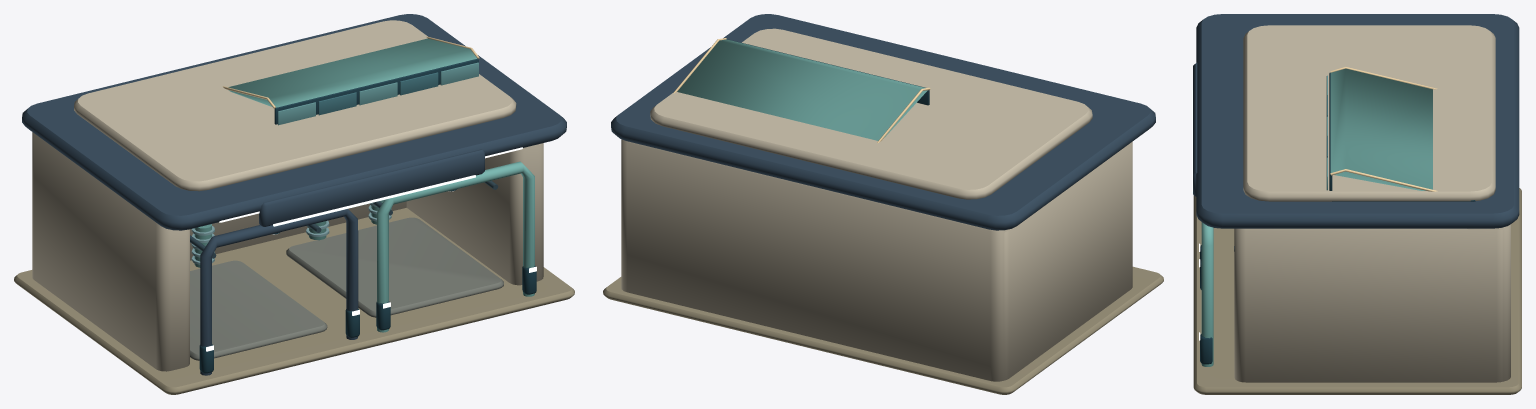
File: luxury_detail.glb
3 views of the same model, side by side, from view 1: azimuth 30°, elevation 25°; view 2: azimuth 150°, elevation 25°; view 3: azimuth 270°, elevation 25° (orthographic). The views are drawn at different scales.
Parts seen in each view (by area): view 1: LuxuryDetail; view 2: LuxuryDetail; view 3: LuxuryDetail.
Boxes of the visible parts, box(x1,y1,x2,y2) form: LuxuryDetail: box(14, 14, 574, 394); LuxuryDetail: box(603, 14, 1163, 394); LuxuryDetail: box(1192, 14, 1521, 394).
Size of the model in its own units: 9.08 by 4.32 by 6.15.
